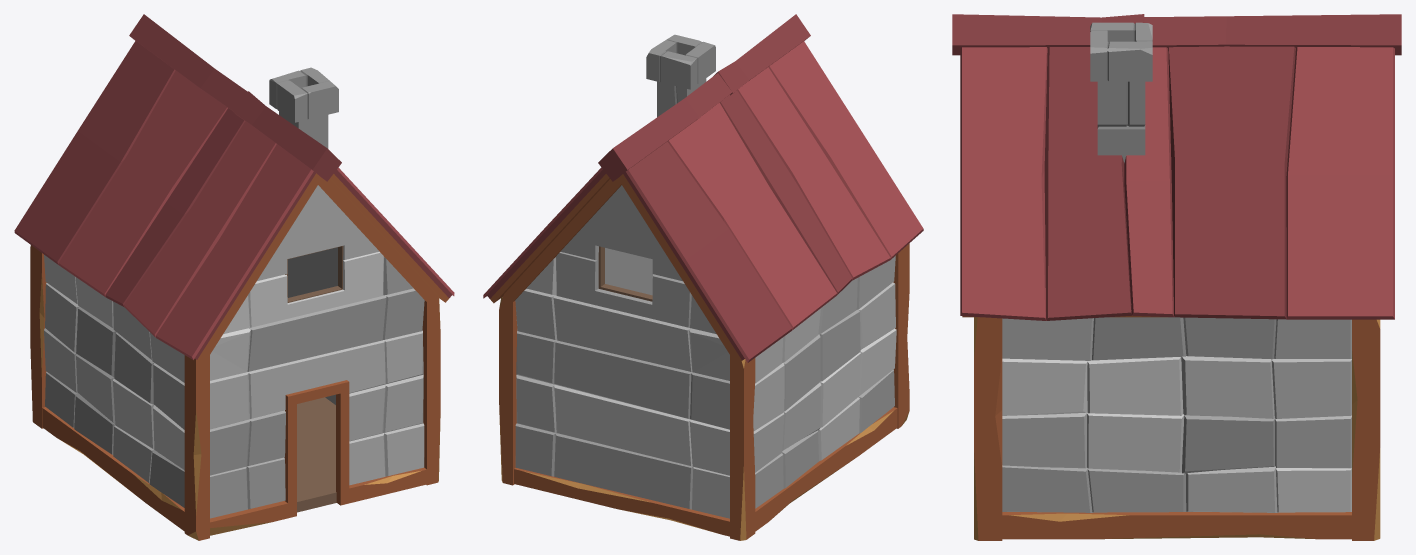
File: Warehouse.fbx
3 views of the same model, side by side, from view 1: azimuth 30°, elevation 25°; view 2: azimuth 150°, elevation 25°; view 3: azimuth 270°, elevation 25° (orthographic). The views are drawn at different scales.
Visible parts, largest first — view 1: Warehouse.001; view 2: Warehouse.001; view 3: Warehouse.001.
Part boxes in pixels (x1,y1,x2,y2): Warehouse.001: (14, 14, 454, 540); Warehouse.001: (483, 14, 923, 540); Warehouse.001: (952, 14, 1401, 540).
Bounding box in the file's own units: 131 × 175 × 155.
